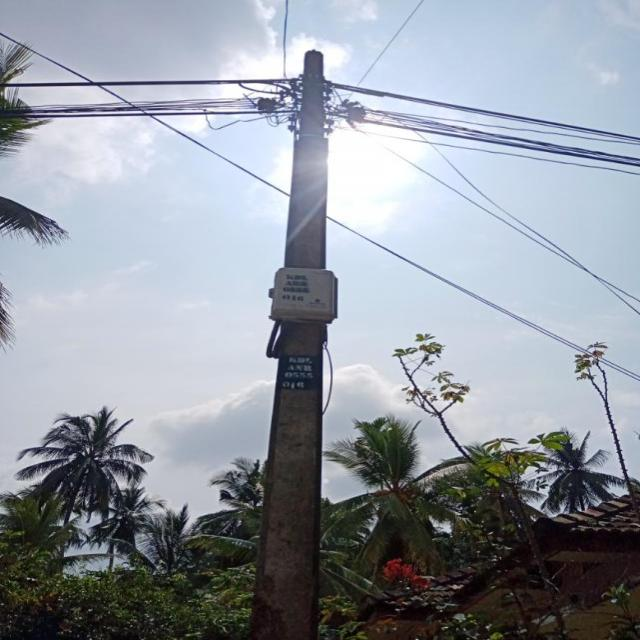light_pole: (245, 40, 346, 640)
